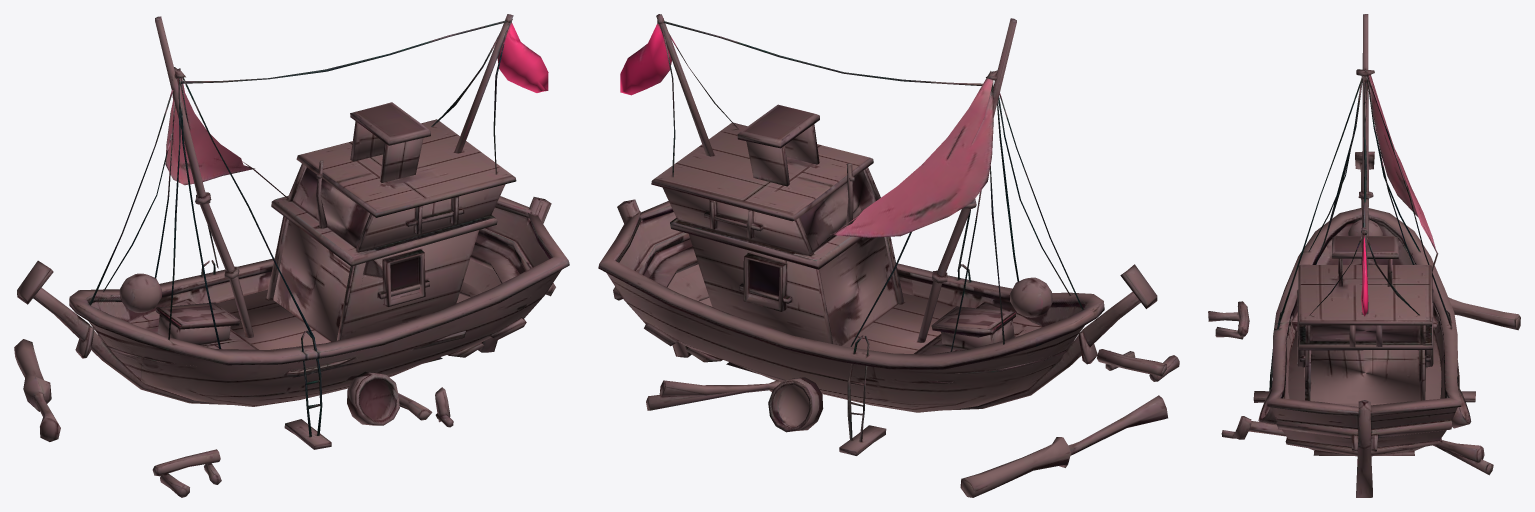
Rendered from shipwreck.glb.
The picture shows the model from 3 angles, left to right: view 1: azimuth 30°, elevation 25°; view 2: azimuth 150°, elevation 25°; view 3: azimuth 270°, elevation 25°; orthographic projection. The views are drawn at different scales.
Bounding box in the file's own units: 1 × 0.7484 × 0.6085.
Materials: 1 (1 with a texture image).
